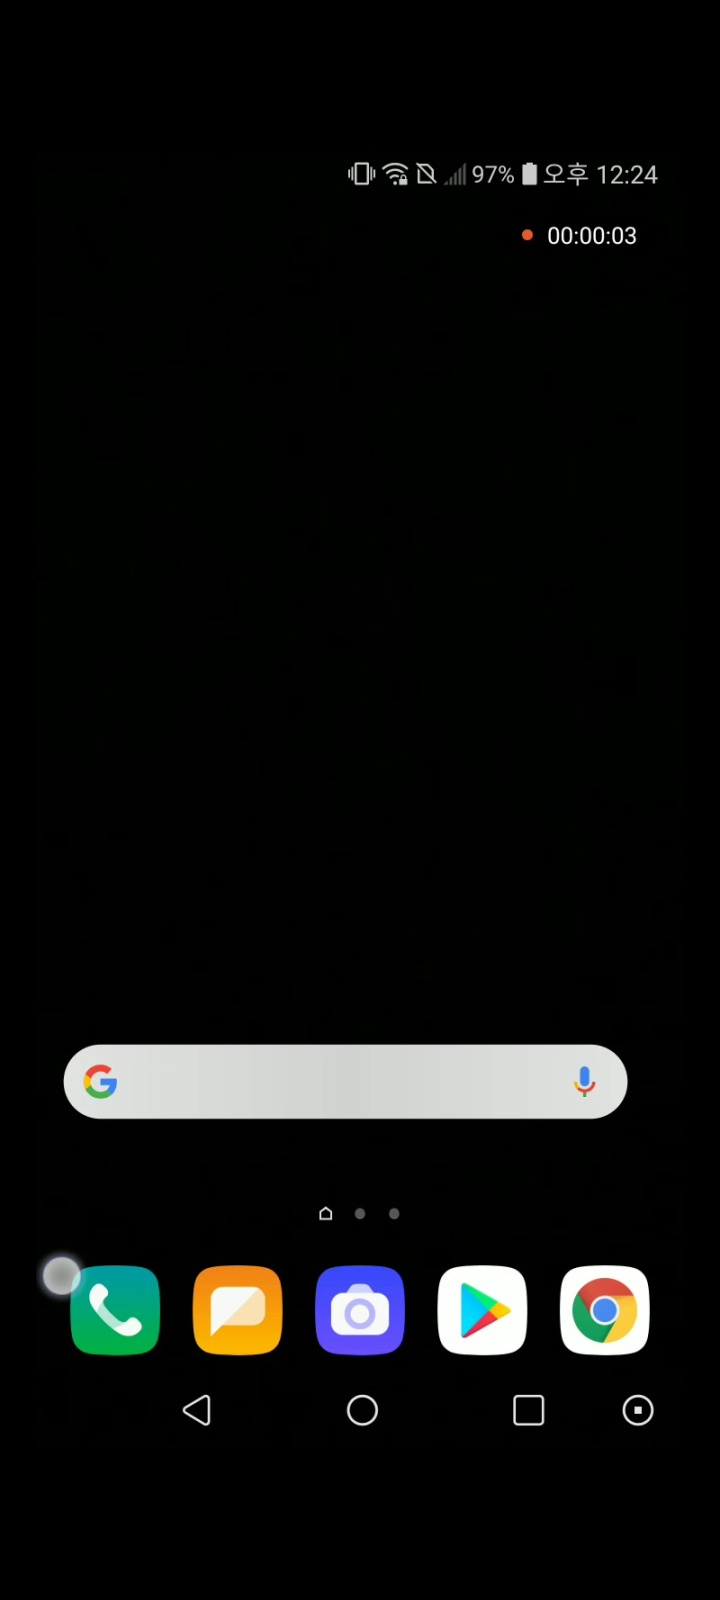Cursor: (39, 1254, 84, 1299)
